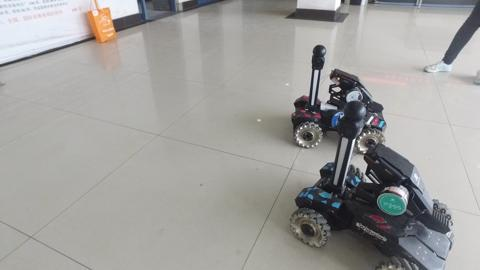chariot: (277, 97, 461, 270), (288, 43, 394, 155)
